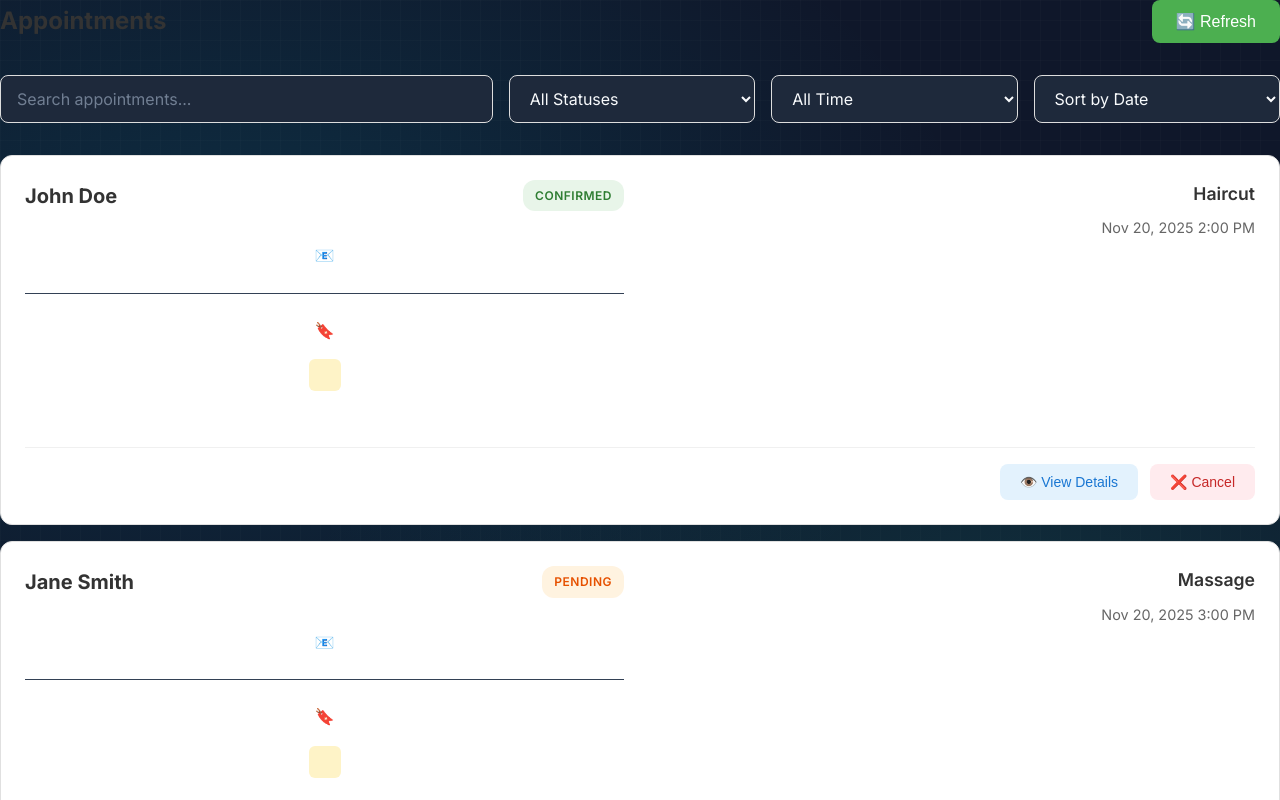
Test: AppointmentList Component - TDD › Filters and Search › should filter appointments by status
The width and height of the screenshot is (1280, 800).
Expected: the heading "John Doe" is shown, [25,184,117,208]
Expected: the heading "Jane Smith" is shown, [25,570,134,594]
# Filter by pending status
Select "Pending" in the dropdown named "status" at (632, 99), box [509,75,755,123]
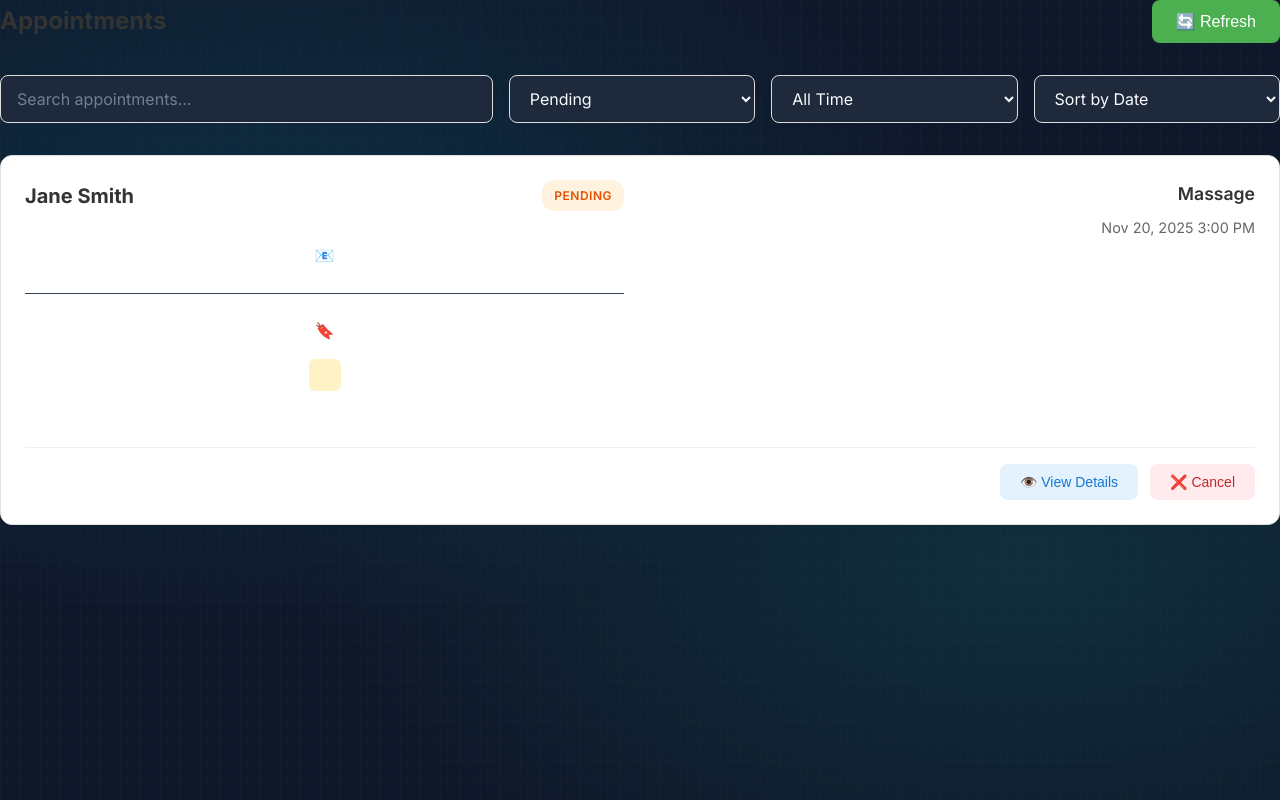
Expected: the heading "Jane Smith" is shown, [25,184,134,208]
Expected: the heading "John Doe" is gone
